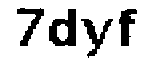7: (12, 5, 44, 51)
d: (46, 6, 81, 53)
f: (117, 5, 141, 51)
y: (80, 15, 115, 59)
